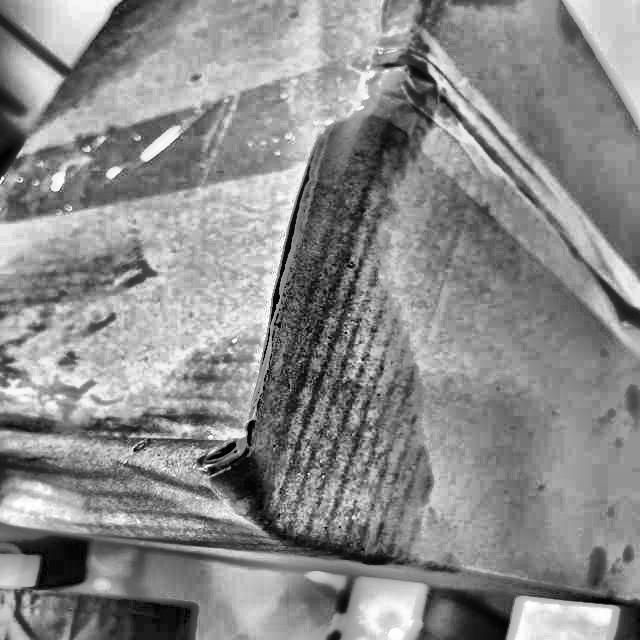box: (0, 0, 640, 612)
wet: (185, 135, 465, 555)
